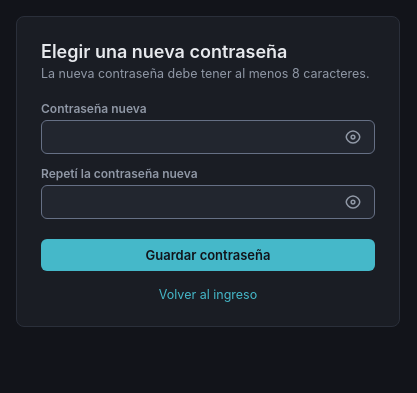
Test: ResetPasswordForm › avisa y no envía cuando las contraseñas no coinciden
This screenshot has width=417, height=393.
Type "contrasena-nueva" into the password field labelled "Contraseña nueva" at {"x": 208, "y": 137}, box x1=41 y1=120 x2=375 y2=154
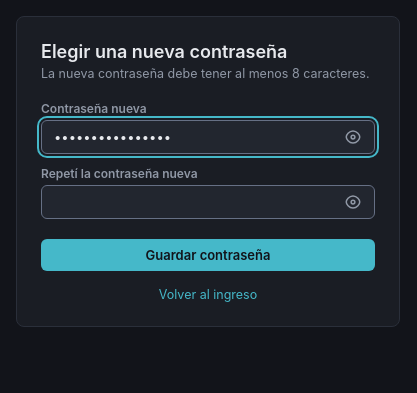
Type "otra-contrasena" into the password field labelled "Repetí la contraseña nueva" at {"x": 208, "y": 202}, box x1=41 y1=185 x2=375 y2=219
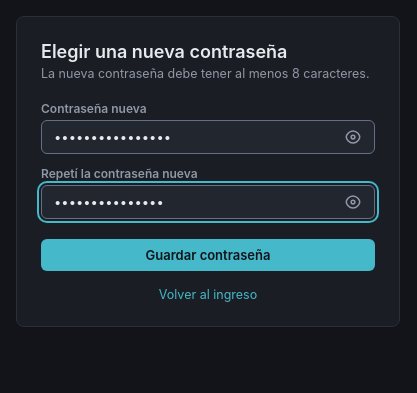
Click the button "Guardar contraseña" at {"x": 208, "y": 255}, box x1=41 y1=239 x2=375 y2=271
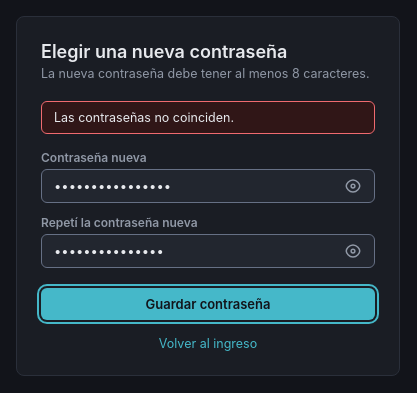
Expected: the message reads "Las contraseñas no coinciden.", x1=54 y1=110 x2=234 y2=125
